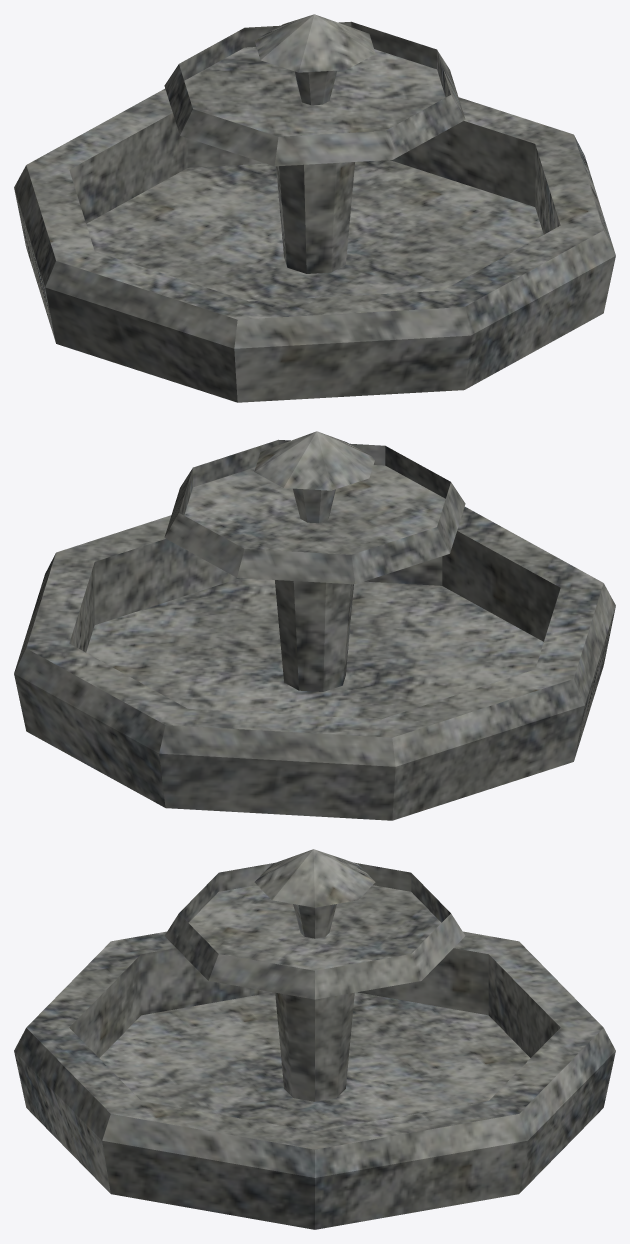
Rendered from Fountain.fbx.
The picture shows the model from 3 angles, top to bottom: view 1: azimuth 30°, elevation 25°; view 2: azimuth 150°, elevation 25°; view 3: azimuth 270°, elevation 25°; orthographic projection. The views are drawn at different scales.
Parts seen in each view (by area): view 1: Fountain; view 2: Fountain; view 3: Fountain.
Boxes of the visible parts, x1=… form: Fountain: x1=14, y1=14, x2=615, y2=402; Fountain: x1=14, y1=431, x2=615, y2=820; Fountain: x1=14, y1=849, x2=615, y2=1229.
Size of the model in its own units: 1365 by 646 by 1365.
